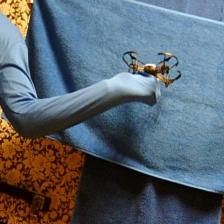drone: (123, 50, 182, 87)
